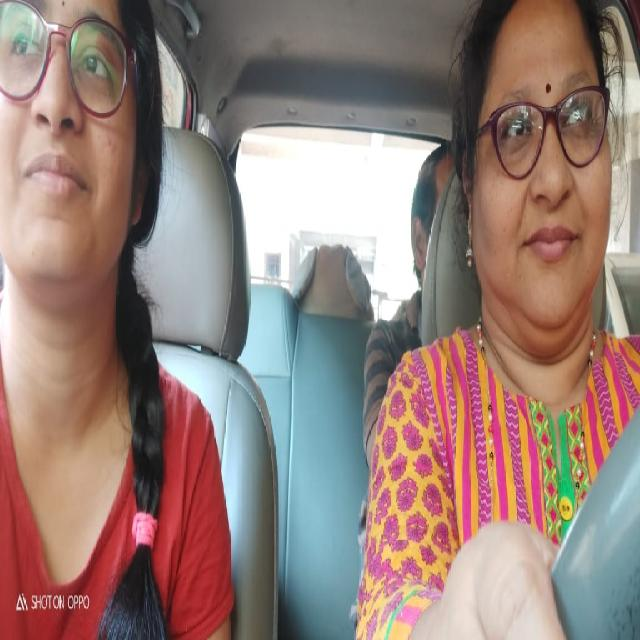person: (458, 7, 615, 326), (0, 3, 152, 275), (414, 156, 428, 289)
